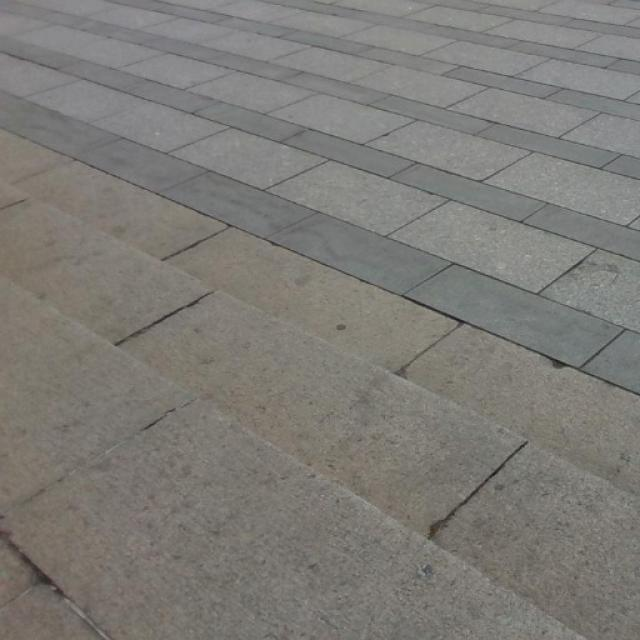stair: (10, 172, 617, 602)
